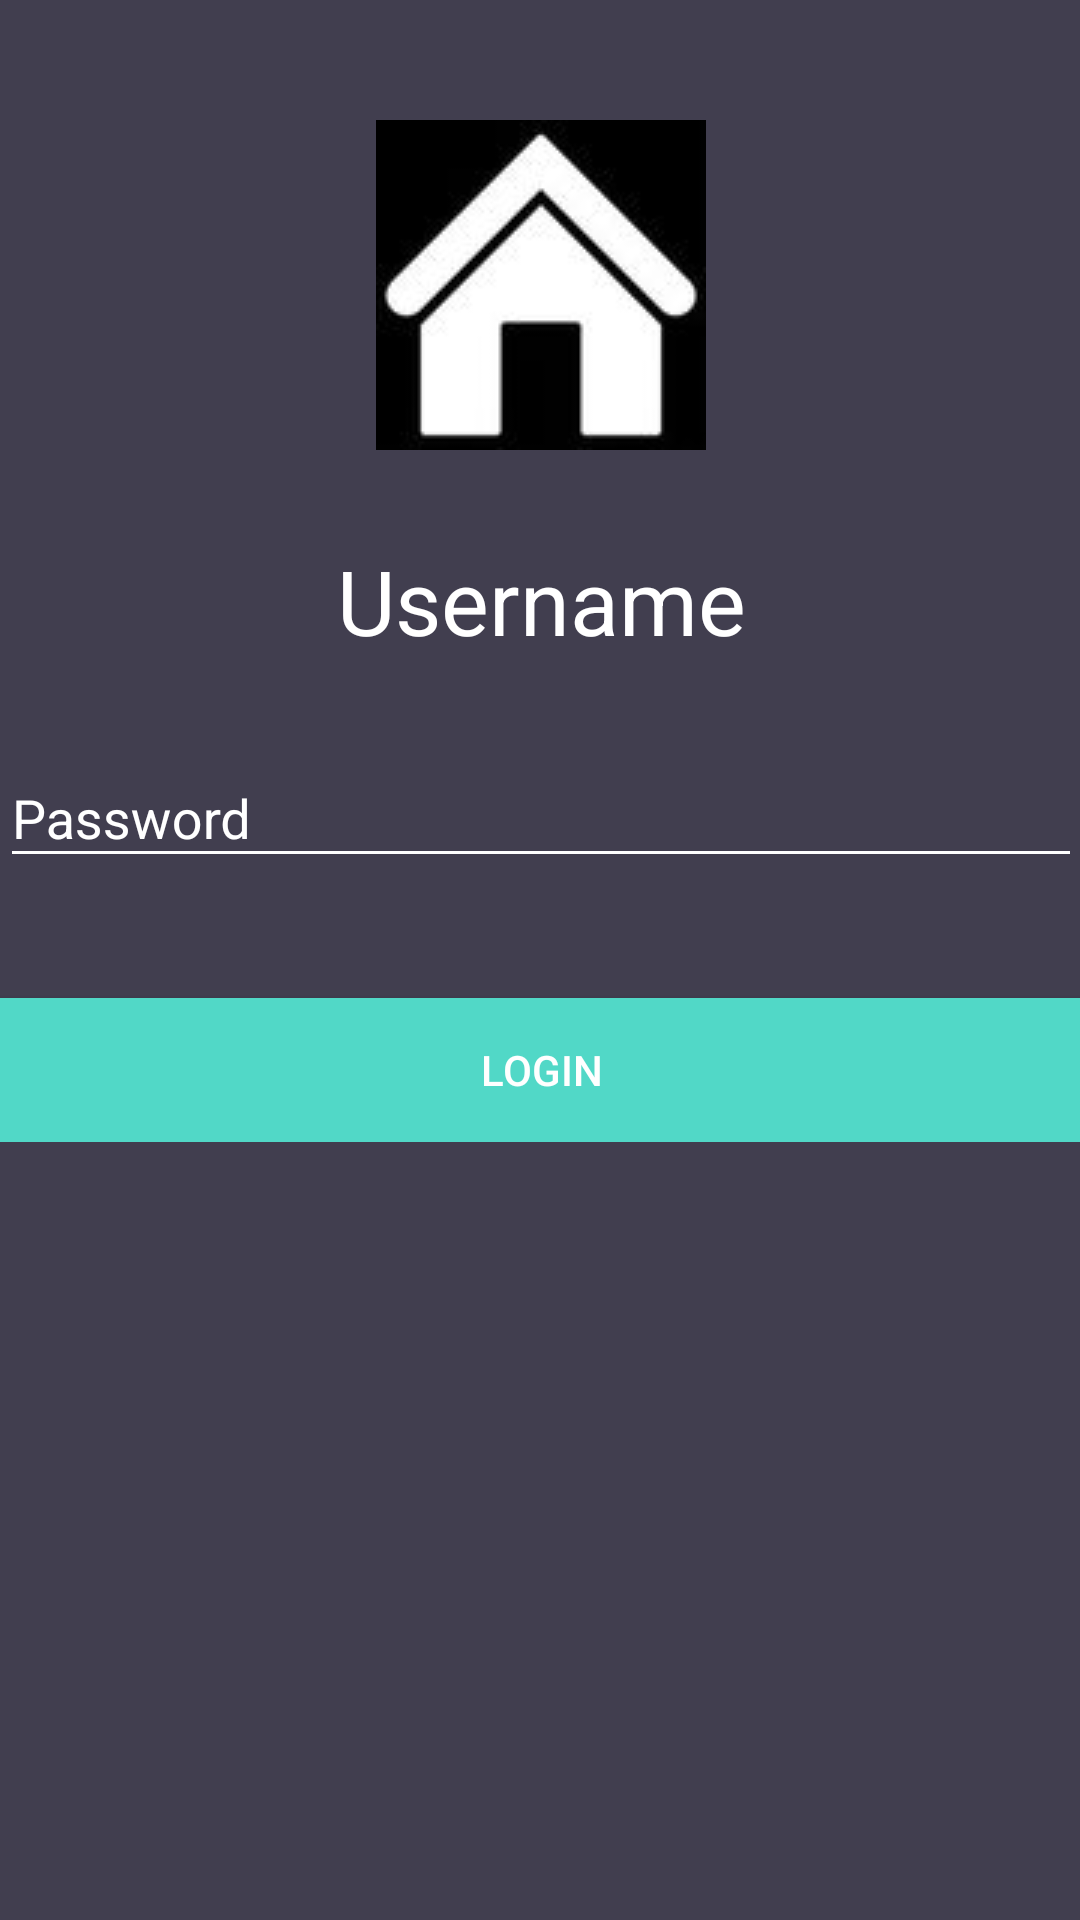

Where icons sit on this 1080*1920 app screen, as (left=x1, top=y1, right=x2, bottom=y2):
homepic: (left=376, top=120, right=706, bottom=450)
